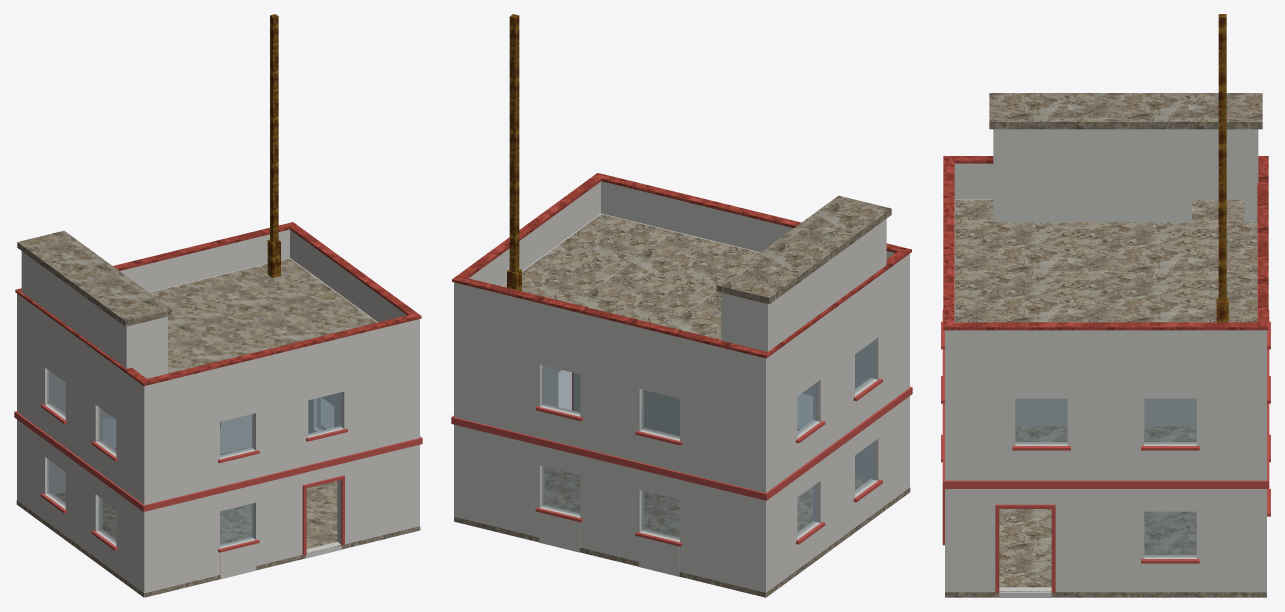
Rendered from coastguard-station.zfix-v14.lod1.glb.
The picture shows the model from 3 angles, left to right: view 1: azimuth 30°, elevation 25°; view 2: azimuth 150°, elevation 25°; view 3: azimuth 270°, elevation 25°; orthographic projection. The views are drawn at different scales.
Visible parts, largest first — view 1: coastguard-station; view 2: coastguard-station; view 3: coastguard-station.
Part boxes in pixels (x1,y1,x2,y2): coastguard-station: [14, 14, 422, 597]; coastguard-station: [451, 14, 912, 597]; coastguard-station: [941, 14, 1270, 597].
Size of the model in its own units: 10.2 by 15.37 by 8.2.
4 materials, 2 textured.
